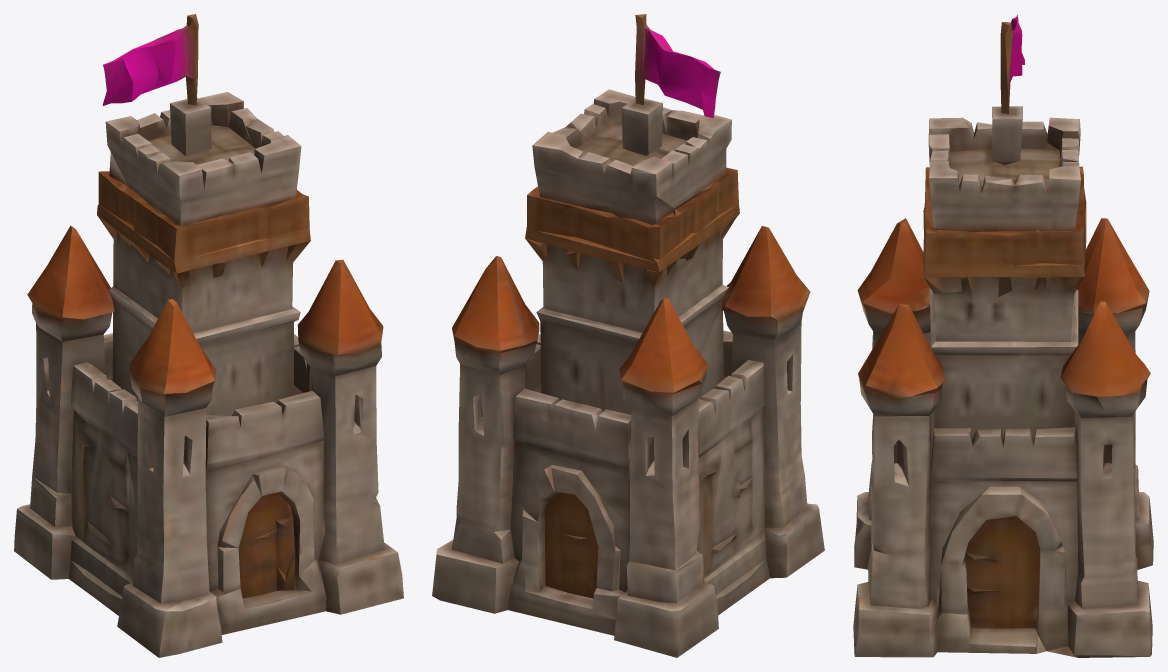
Rendered from castle.lod2.glb.
The picture shows the model from 3 angles, left to right: view 1: azimuth 30°, elevation 25°; view 2: azimuth 150°, elevation 25°; view 3: azimuth 270°, elevation 25°; orthographic projection.
Visible parts, largest first — view 1: castle.lod2_uv; view 2: castle.lod2_uv; view 3: castle.lod2_uv.
Part boxes in pixels (bbox=[...]): castle.lod2_uv: bbox=[14, 14, 403, 657]; castle.lod2_uv: bbox=[432, 14, 824, 657]; castle.lod2_uv: bbox=[853, 14, 1153, 657].
Size of the model in its own units: 0.8845 by 1.9 by 0.9097.
1 material, 1 textured.
